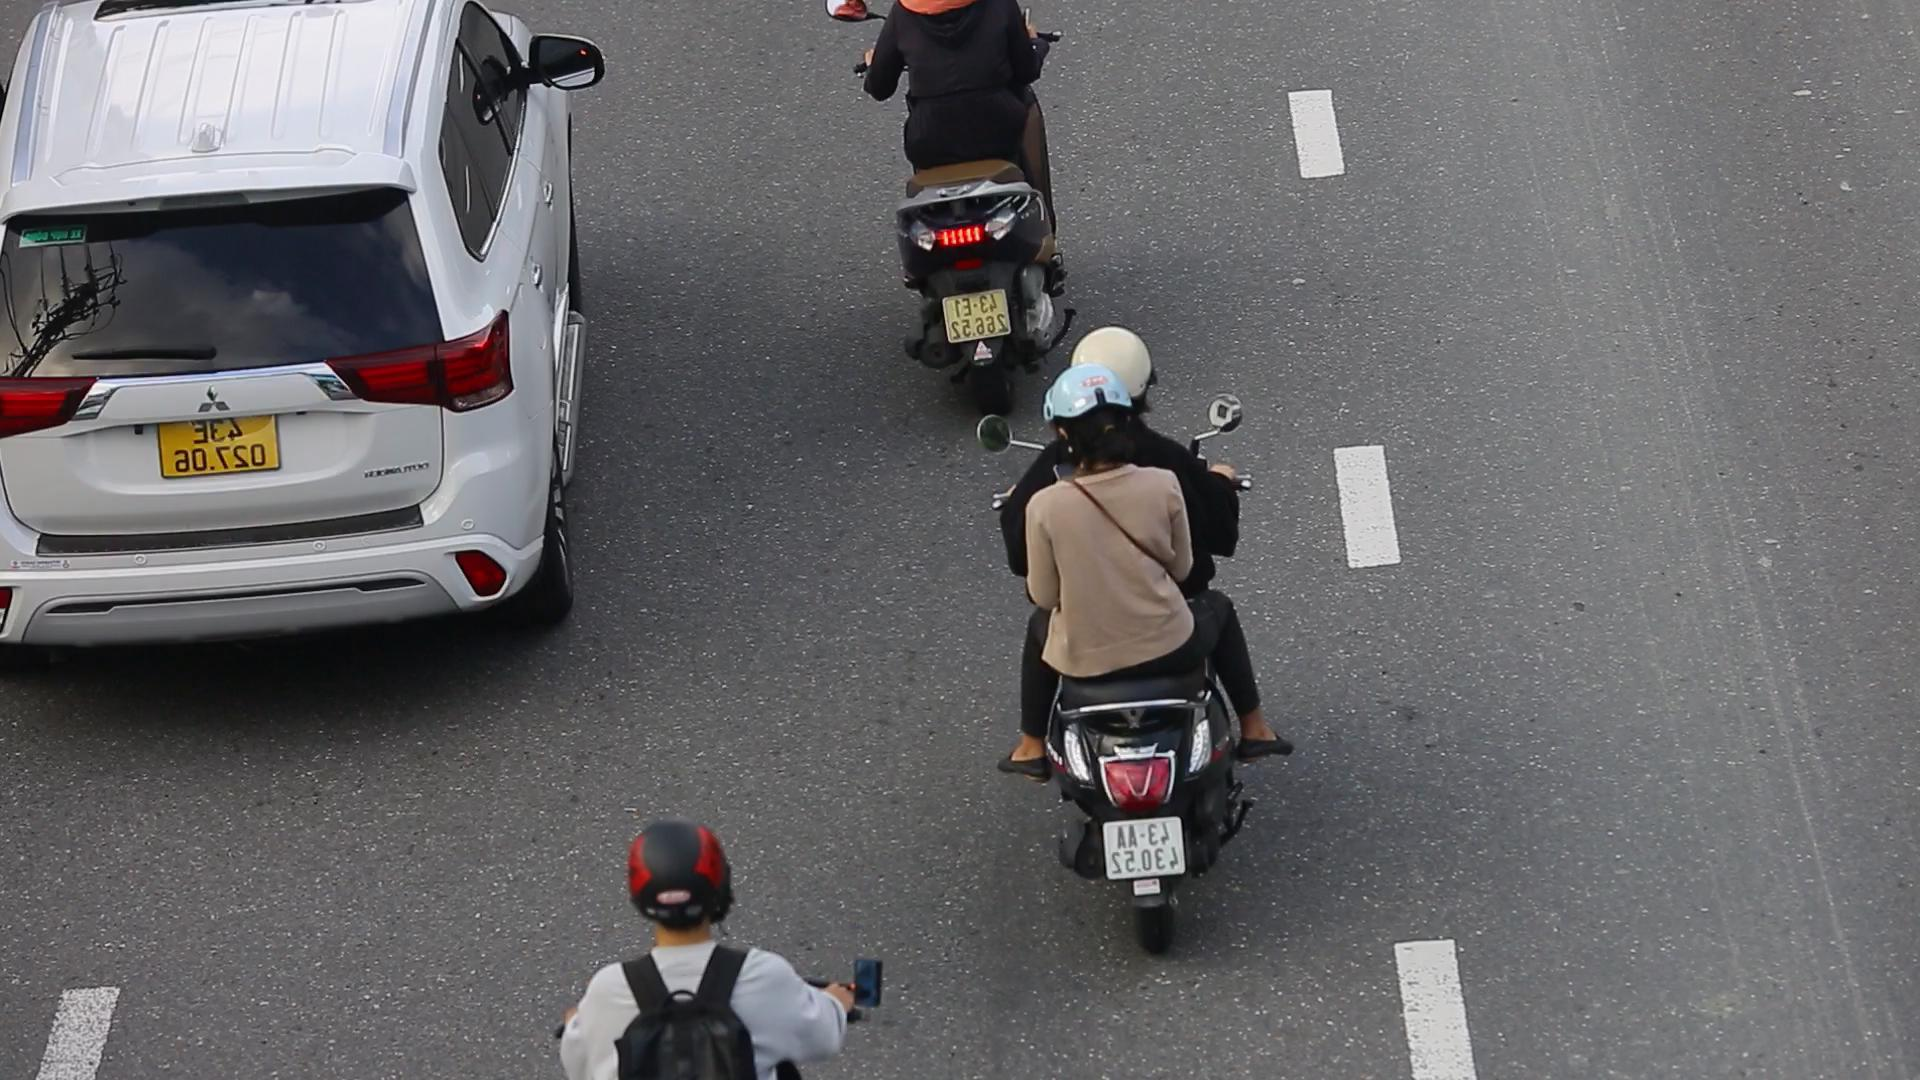motobike: (978, 319, 1266, 956)
